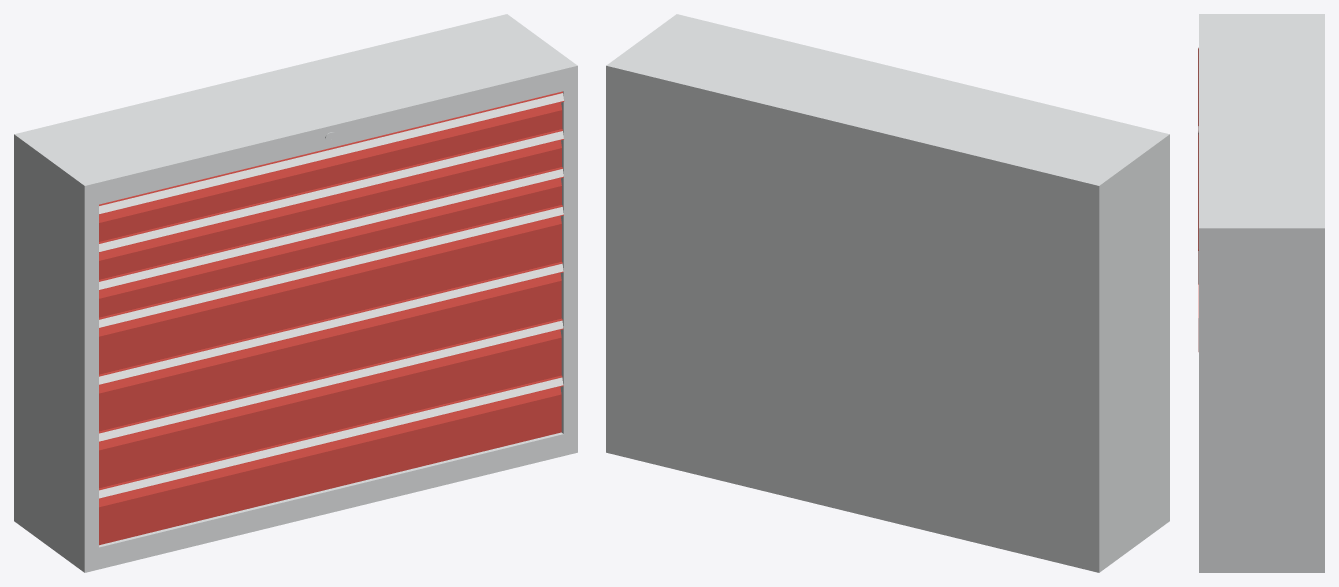
The picture shows the model from 3 angles, left to right: view 1: azimuth 30°, elevation 25°; view 2: azimuth 150°, elevation 25°; view 3: azimuth 270°, elevation 25°; orthographic projection. The views are drawn at different scales.
Visible parts, largest first — view 1: mesh_10; view 2: mesh_10; view 3: mesh_10.
Boxes of the visible parts, left/top/right/bottom form: mesh_10: left=14, top=14, right=577, bottom=572; mesh_10: left=606, top=14, right=1169, bottom=572; mesh_10: left=1198, top=14, right=1324, bottom=572.
Bounding box in the file's own units: 400 × 300 × 100.
